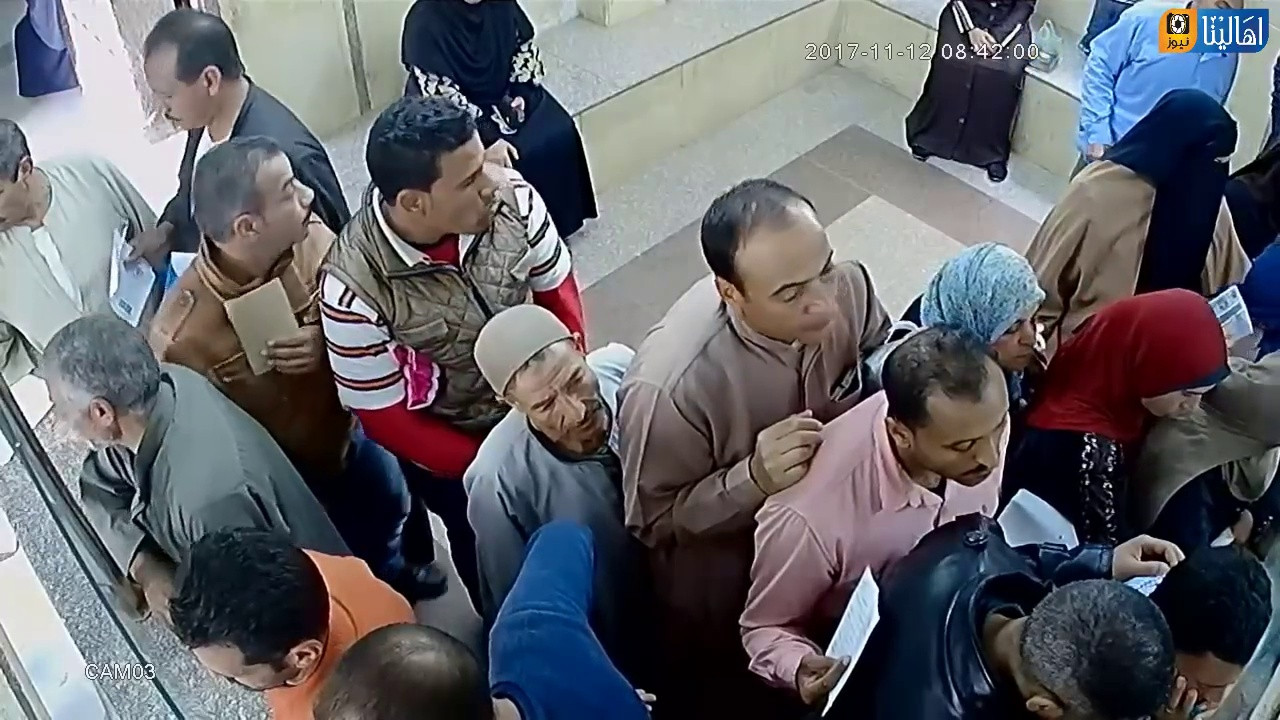face: (746, 211, 844, 345), (511, 350, 605, 442), (928, 396, 1010, 492), (228, 169, 316, 253), (147, 25, 212, 134), (434, 144, 501, 245), (989, 297, 1039, 375)
